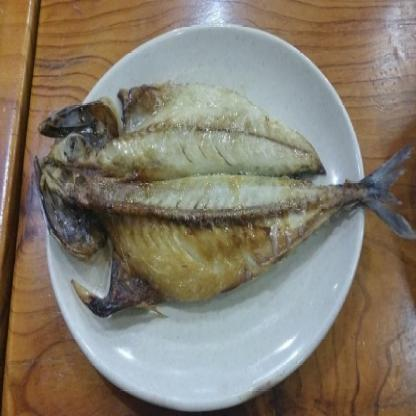Peixe: (14, 69, 416, 358)
